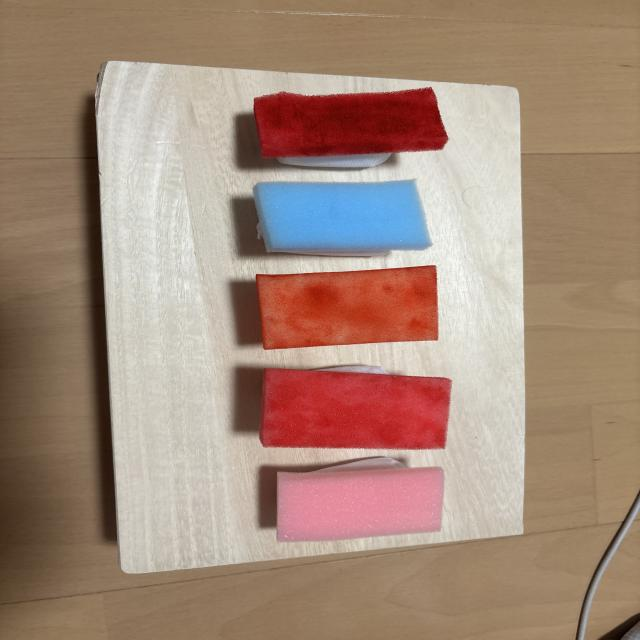ika: (254, 180, 432, 255)
maguro: (260, 366, 452, 449), (254, 87, 448, 168)
salmon: (256, 266, 438, 349)
tai: (277, 458, 444, 542)
